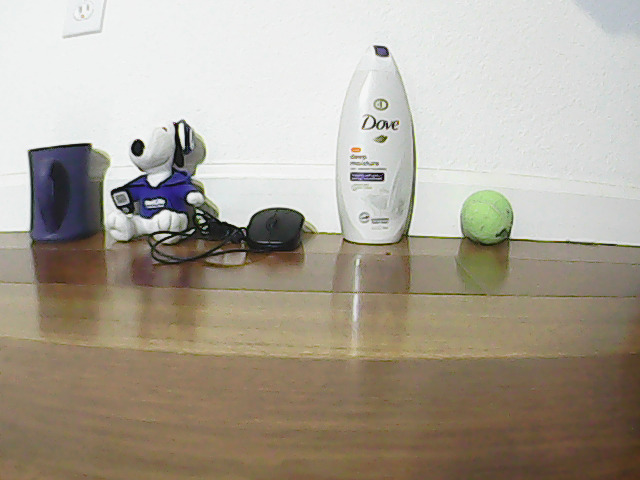ball: (461, 178, 524, 242)
mouse: (254, 191, 314, 255)
mug: (25, 123, 100, 242)
snoopy: (128, 123, 203, 242)
soap: (323, 33, 431, 244)
